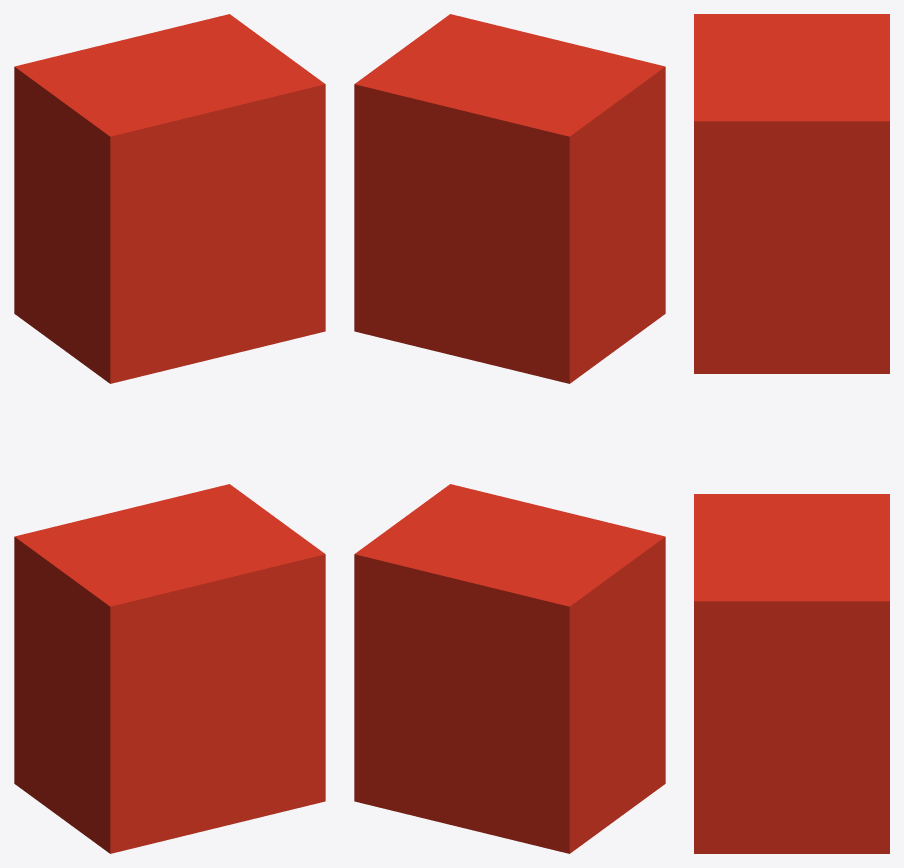
The model's file is Icon_Symbol_Colon.fbx.
The picture shows the model from 3 angles, left to right: view 1: azimuth 30°, elevation 25°; view 2: azimuth 150°, elevation 25°; view 3: azimuth 270°, elevation 25°; orthographic projection. The views are drawn at different scales.
Visible parts, largest first — view 1: Icon_Symbol_Colon; view 2: Icon_Symbol_Colon; view 3: Icon_Symbol_Colon.
Boxes of the visible parts, x1=… form: Icon_Symbol_Colon: x1=14, y1=14, x2=325, y2=853; Icon_Symbol_Colon: x1=354, y1=14, x2=665, y2=853; Icon_Symbol_Colon: x1=694, y1=14, x2=889, y2=853.
Size of the model in its own units: 15.63 by 49.77 by 12.06.
